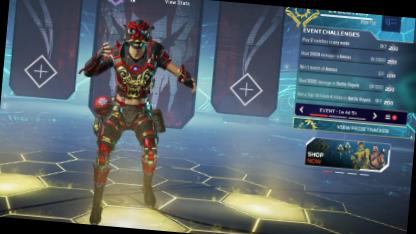Target: (84, 16, 180, 194)
